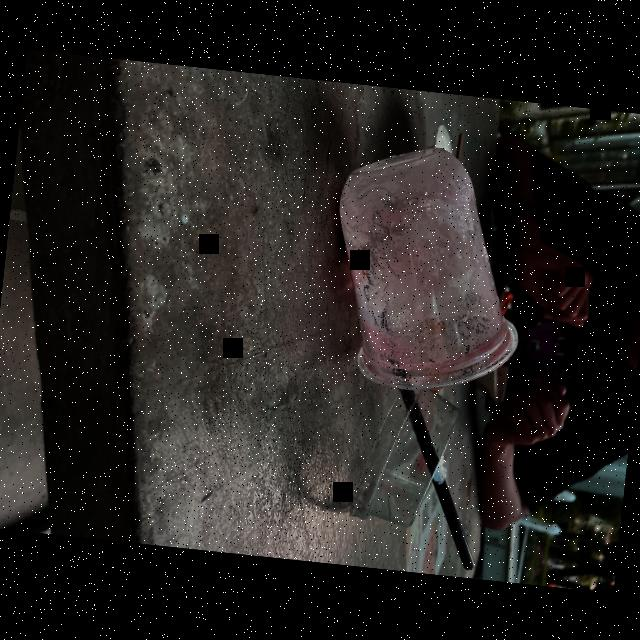plastic_cup: (334, 134, 536, 384)
plastic_cup_lid: (341, 376, 467, 536)
straw: (374, 380, 494, 574)
